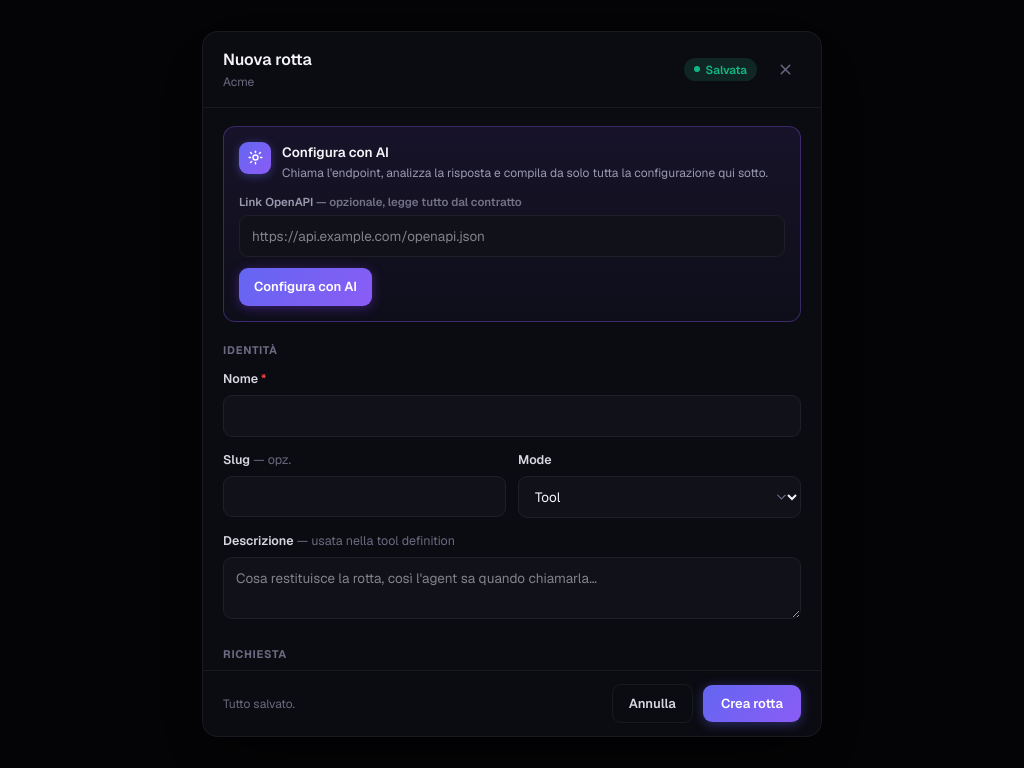
Test: RouteConfigModal › "Configura con AI" fills the whole form from the returned config
Click the button with test id "api-route-form-ai-configure". click: (306, 287)
box: x1=239 y1=268 x2=372 y2=306
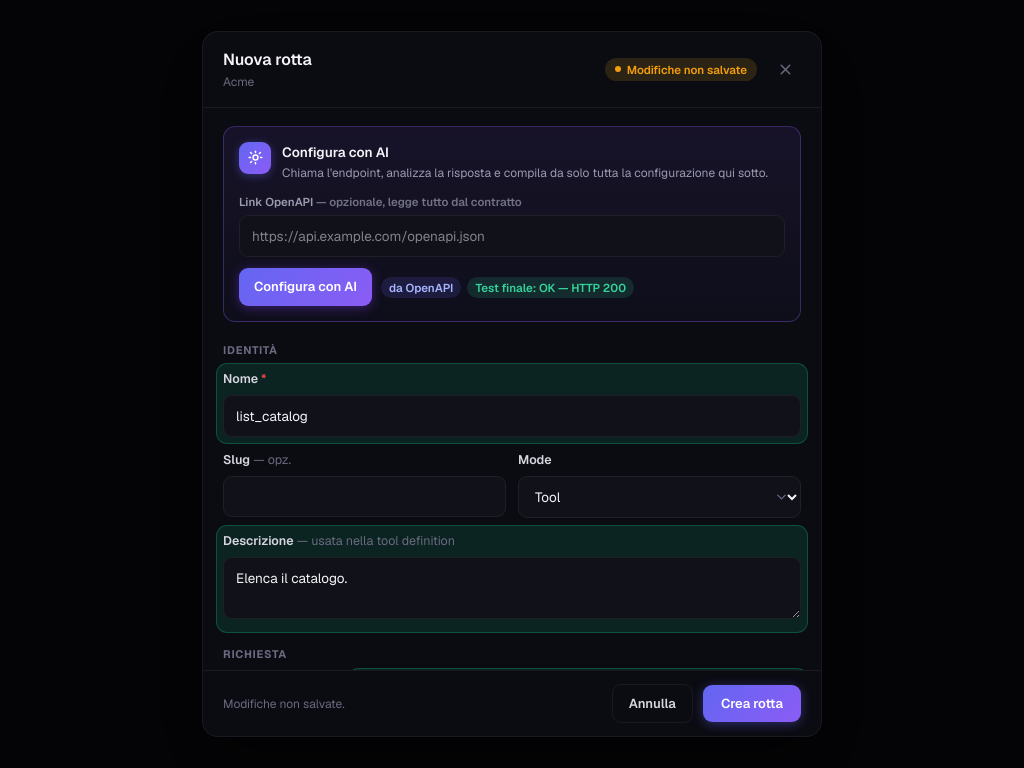
Result: the field with test id "api-route-form-name" holds "list_catalog" at x1=223 y1=395 x2=801 y2=438
Result: the text box with test id "api-route-form-description" holds "Elenca il catalogo." at x1=223 y1=557 x2=801 y2=620
Result: the text with test id "api-route-form-ai-source" reads "da OpenAPI" at x1=389 y1=280 x2=453 y2=295
